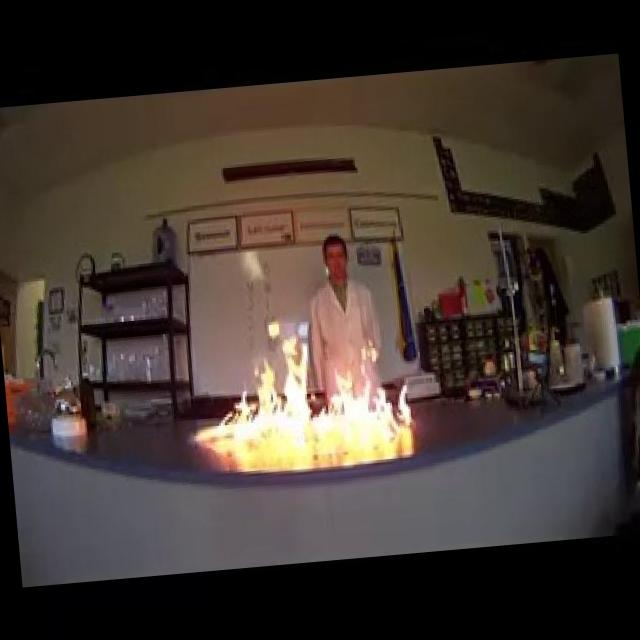Smoke: (180, 322, 424, 450)
